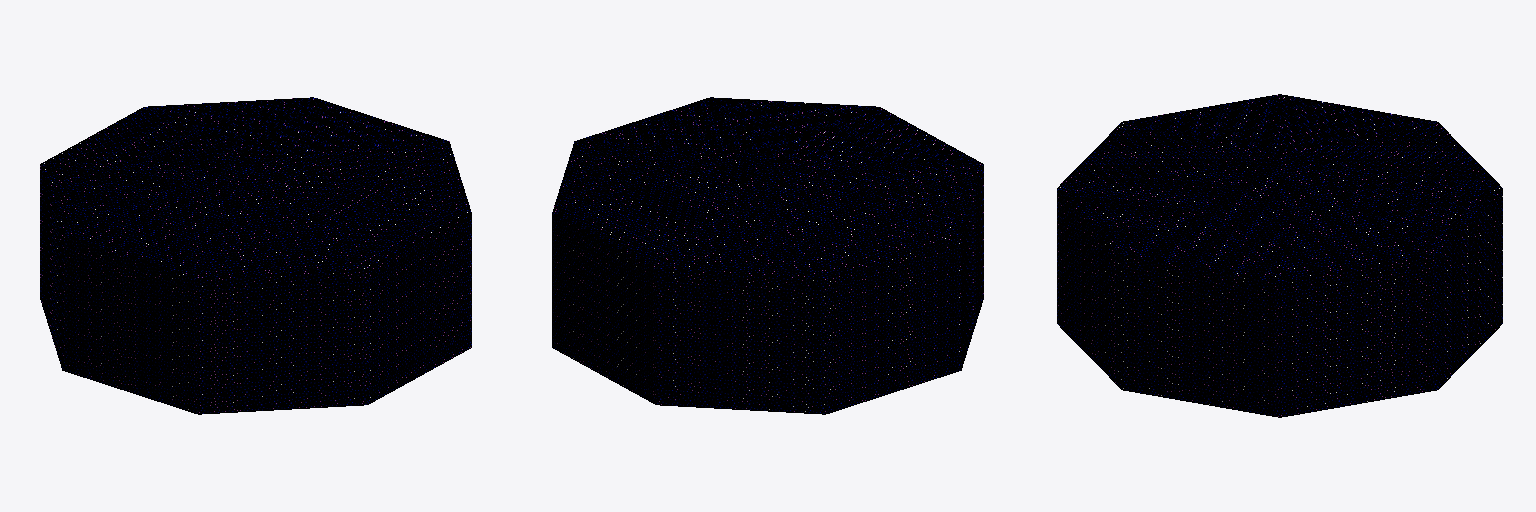
3 views of the same model, side by side, from view 1: azimuth 30°, elevation 25°; view 2: azimuth 150°, elevation 25°; view 3: azimuth 270°, elevation 25° (orthographic).
Parts seen in each view (by area): view 1: Mesh2 Model; view 2: Mesh2 Model; view 3: Mesh2 Model.
Boxes of the visible parts, box(x1,y1,x2,y2) form: Mesh2 Model: box(40, 97, 471, 414); Mesh2 Model: box(552, 97, 983, 414); Mesh2 Model: box(1057, 94, 1502, 417).
Bounding box in the file's own units: 7200 × 3600 × 7200.
6 materials, 4 textured.